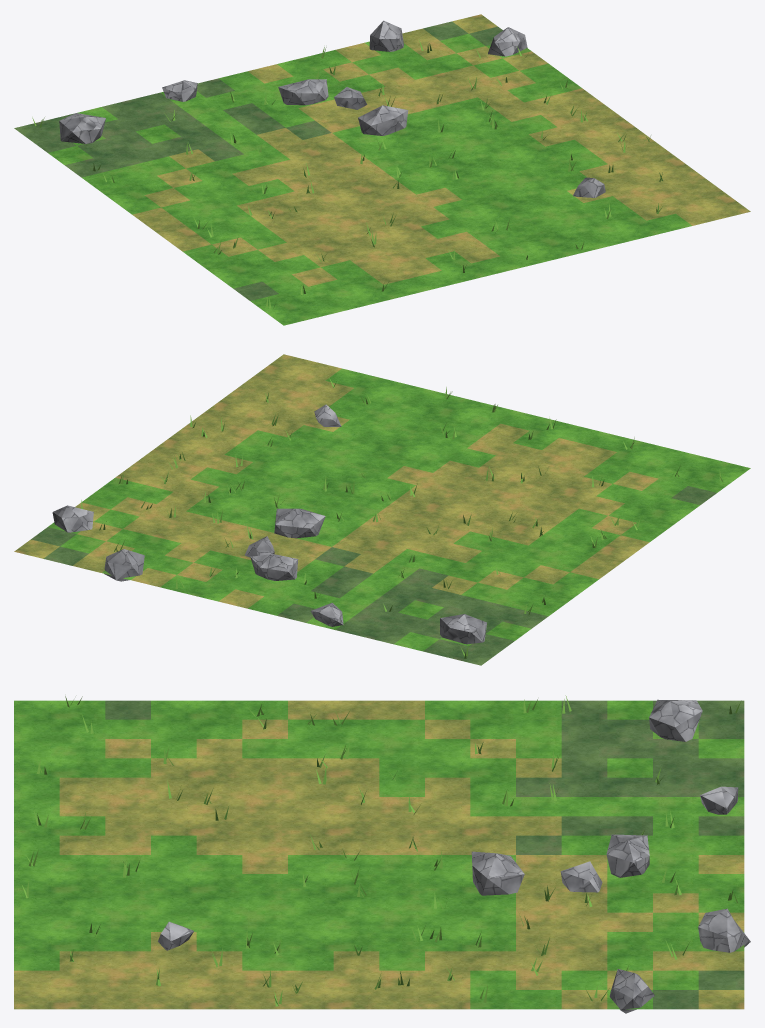
The model's file is chunk_10_3.glb.
3 renders of one model, top to bottom at view 1: azimuth 30°, elevation 25°; view 2: azimuth 150°, elevation 25°; view 3: azimuth 270°, elevation 25°, orthographic. The views are drawn at different scales.
Parts seen in each view (by area): view 1: chunk_10_3; view 2: chunk_10_3; view 3: chunk_10_3.
Boxes of the visible parts, <box> form: chunk_10_3: <box>14,14,750,325</box>; chunk_10_3: <box>14,354,750,665</box>; chunk_10_3: <box>14,695,750,1013</box>.
Bounding box in the file's own units: 16.09 × 1.27 × 16.14.
Materials: 5 (4 with a texture image).
